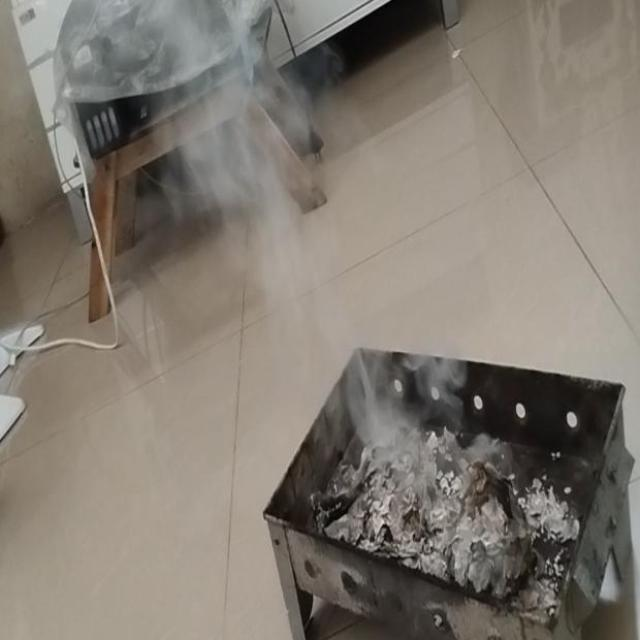fire: (173, 15, 300, 264), (342, 318, 467, 476)
